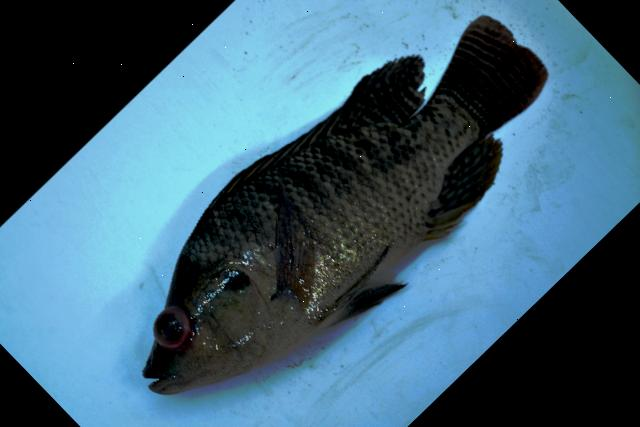Streptococcus: (143, 16, 547, 394)
